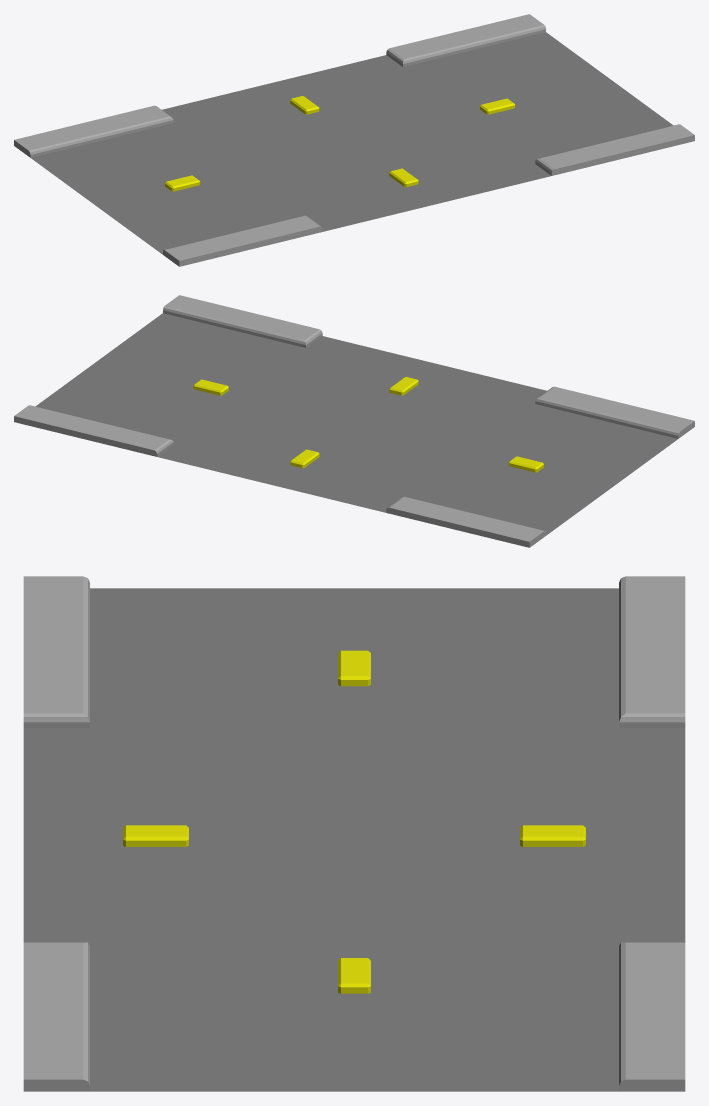
File: 4wayroad.fbx
3 renders of one model, top to bottom at view 1: azimuth 30°, elevation 25°; view 2: azimuth 150°, elevation 25°; view 3: azimuth 270°, elevation 25°, orthographic. The views are drawn at different scales.
Parts seen in each view (by area): view 1: pCube90; view 2: pCube90; view 3: pCube90.
Boxes of the visible parts, x1,y1,x2,y2 form: pCube90: (14,14,694,266); pCube90: (14,295,694,547); pCube90: (23,576,685,1091).
Bounding box in the file's own units: 18 × 0.35 × 10.
